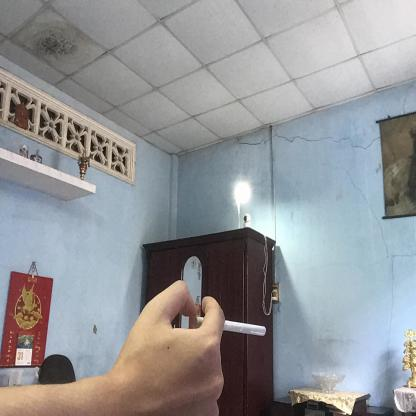cigarette: (223, 316, 270, 341)
